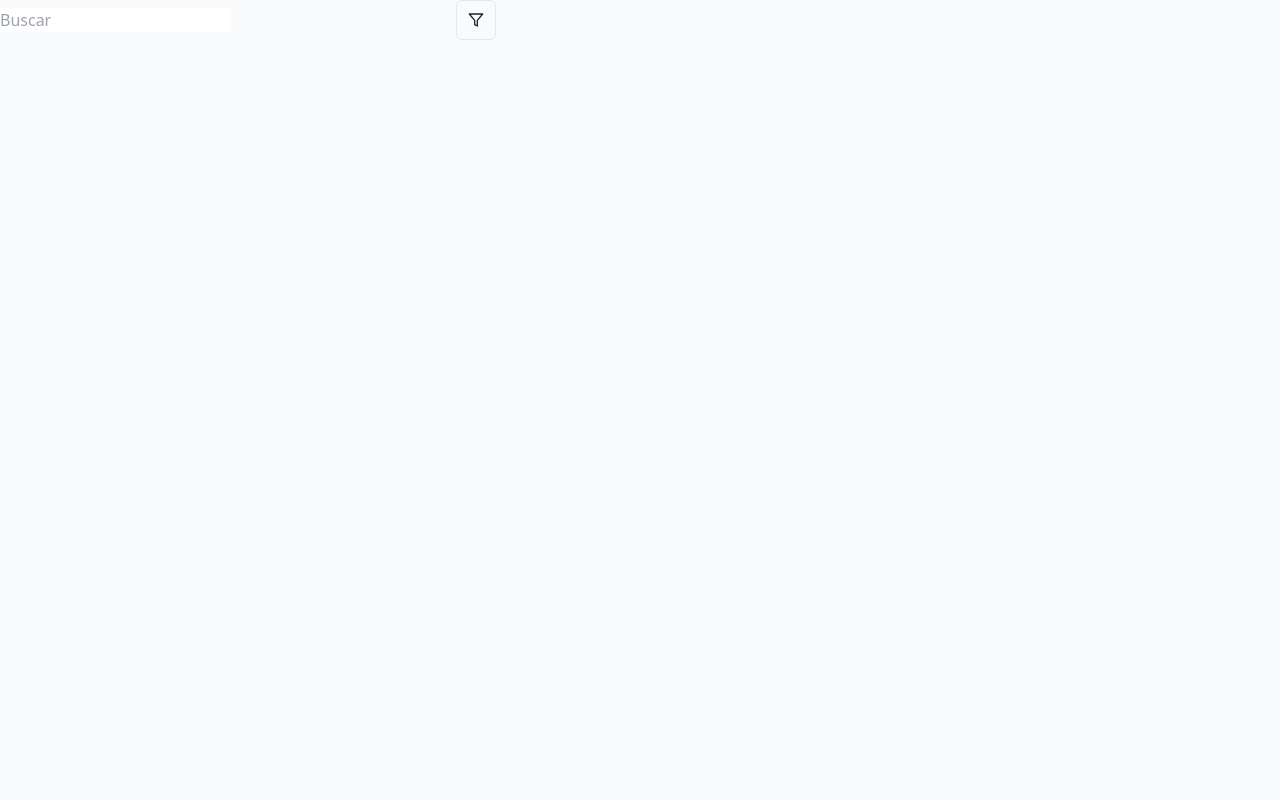
Test: FilterLayout › campos escondidos até tocar no funil; busca sempre visível
This screenshot has width=1280, height=800.
Expected: the field with placeholder "Buscar" is shown, [0,8,231,32]
Expected: the text "campo" is not shown
What coordinates should you click on to do the following:
click the button named "Filtros"
I would click on:
 (476, 20)
Its box is [456,0,496,40].
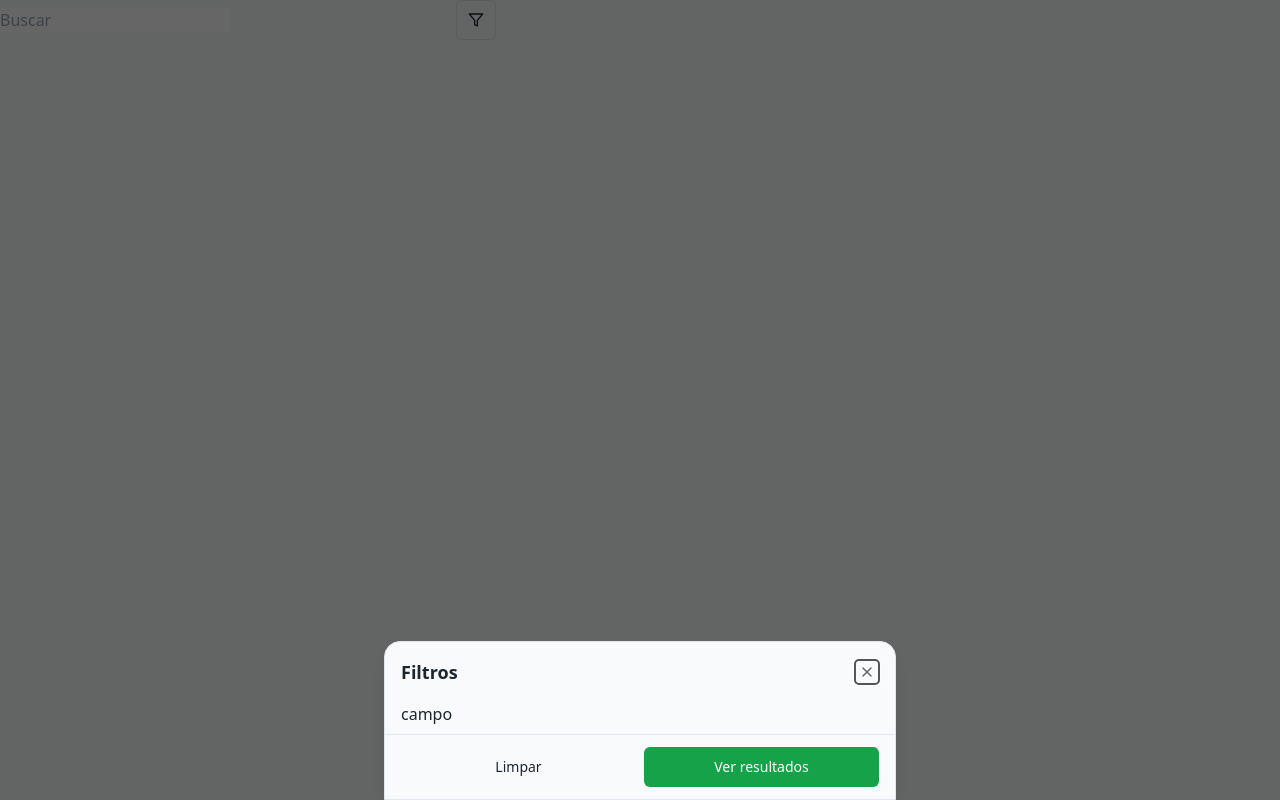
Result: the text "campo" is shown at [401,703,452,725]
What coordinates should you click on to do the following:
click the button "Ver resultados"
I would click on:
 (762, 767)
Its box is [644,747,879,787].
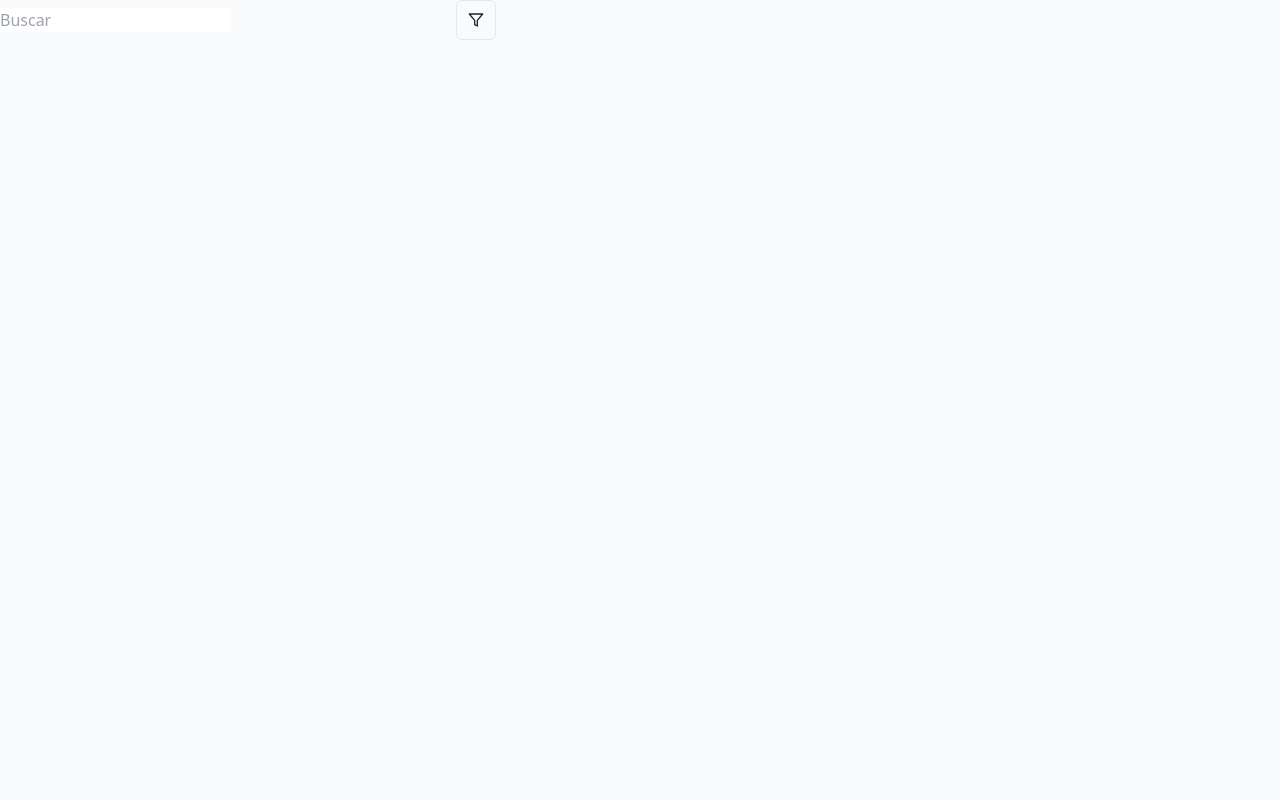
Result: the text "campo" is gone
